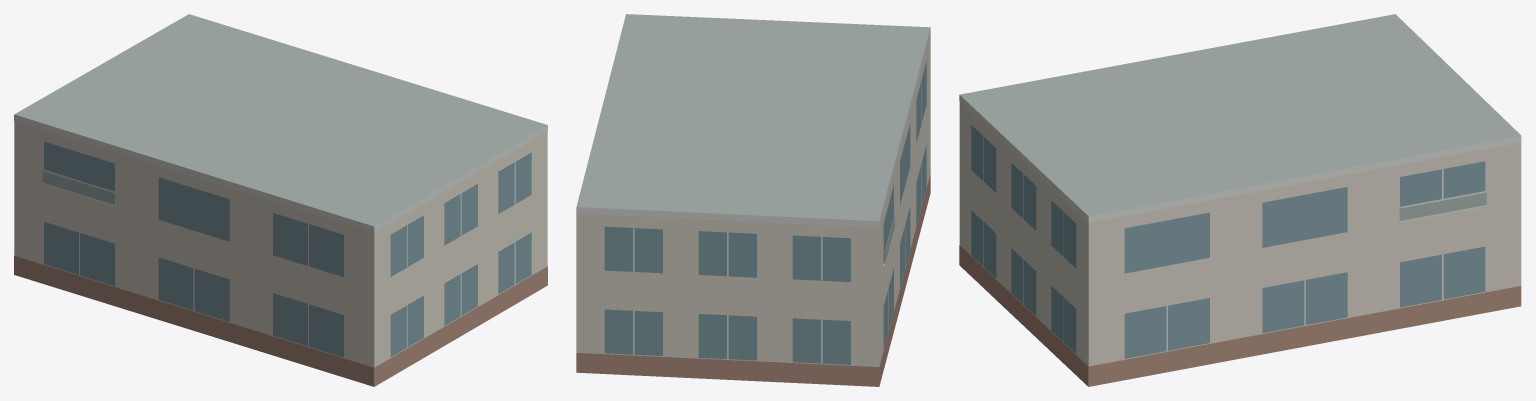
Rendered from survey-upis-32750246.glb.
3 renders of one model, left to right at view 1: azimuth 30°, elevation 25°; view 2: azimuth 150°, elevation 25°; view 3: azimuth 270°, elevation 25°, orthographic. The views are drawn at different scales.
Parts seen in each view (by area): view 1: survey-upis-32750246.tmp; view 2: survey-upis-32750246.tmp; view 3: survey-upis-32750246.tmp.
Part boxes in pixels (left/top/right/bottom): survey-upis-32750246.tmp: left=14, top=14, right=547, bottom=386; survey-upis-32750246.tmp: left=576, top=14, right=930, bottom=386; survey-upis-32750246.tmp: left=959, top=14, right=1521, bottom=386.
Size of the model in its own units: 15.51 by 6.1 by 18.21.
